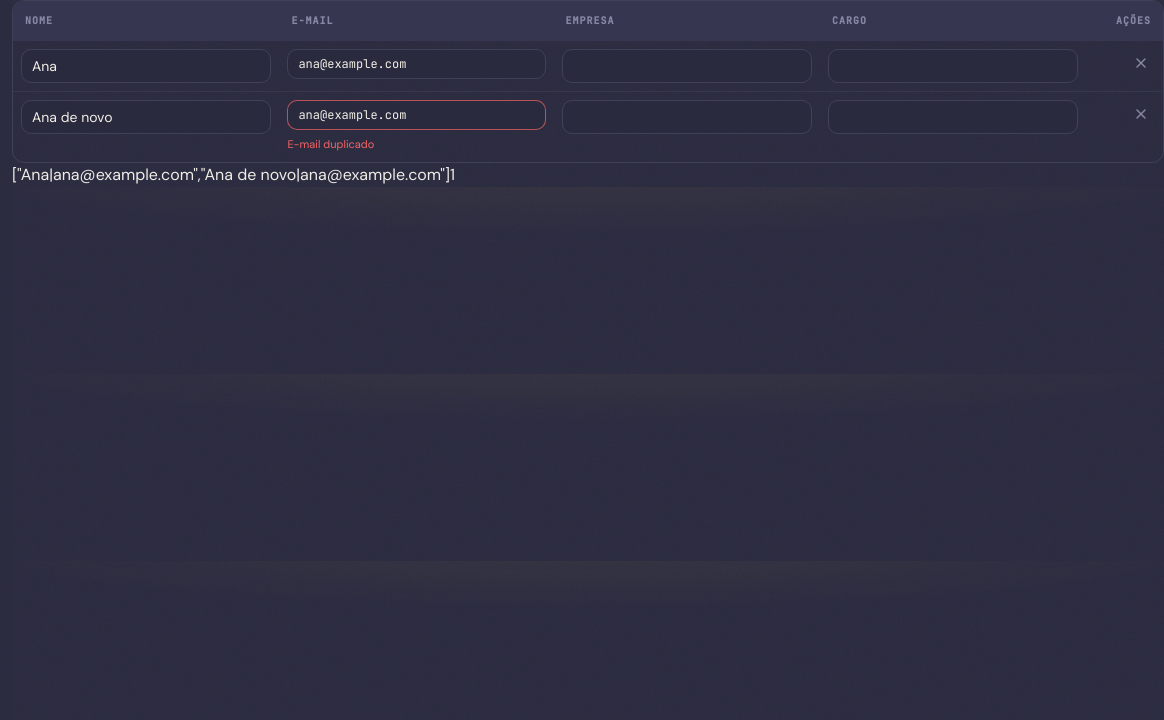
Test case: tabela de conferência ROS › limpa o erro quando a linha culpada é removida
Expected: the text with test id "erros" reads "1", [450,164,455,185]
Click the button named "Remover contato 2".
click(1141, 114)  # box [1127,100,1155,128]
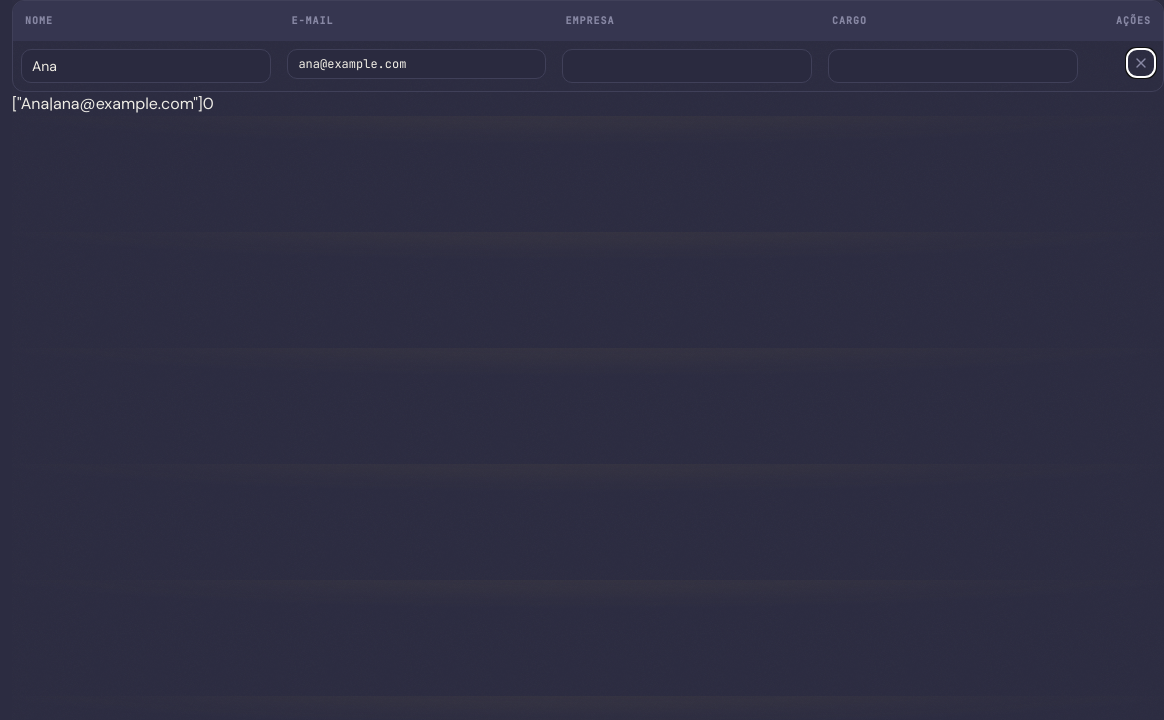
Now the text with test id "erros" reads "0", box [203,93,214,114]
